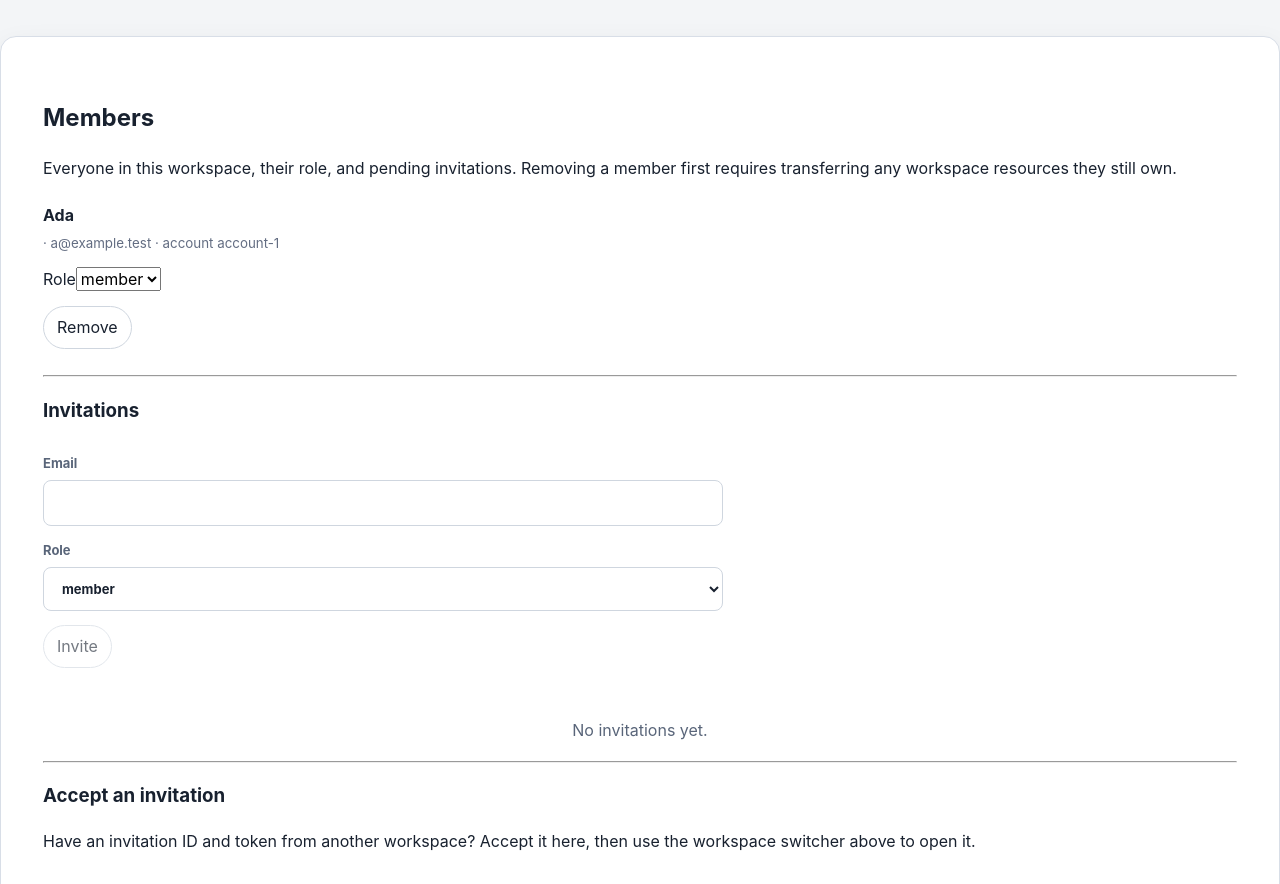
it: MembersPanel › shows the owned-resources breakdown and an ownership-transfer form when removal is blocked
The image size is (1280, 884).
Check: the text "Ada" is shown, box [43,205,74,225]
Click the button "Remove": (87, 327) [43,306,132,349]
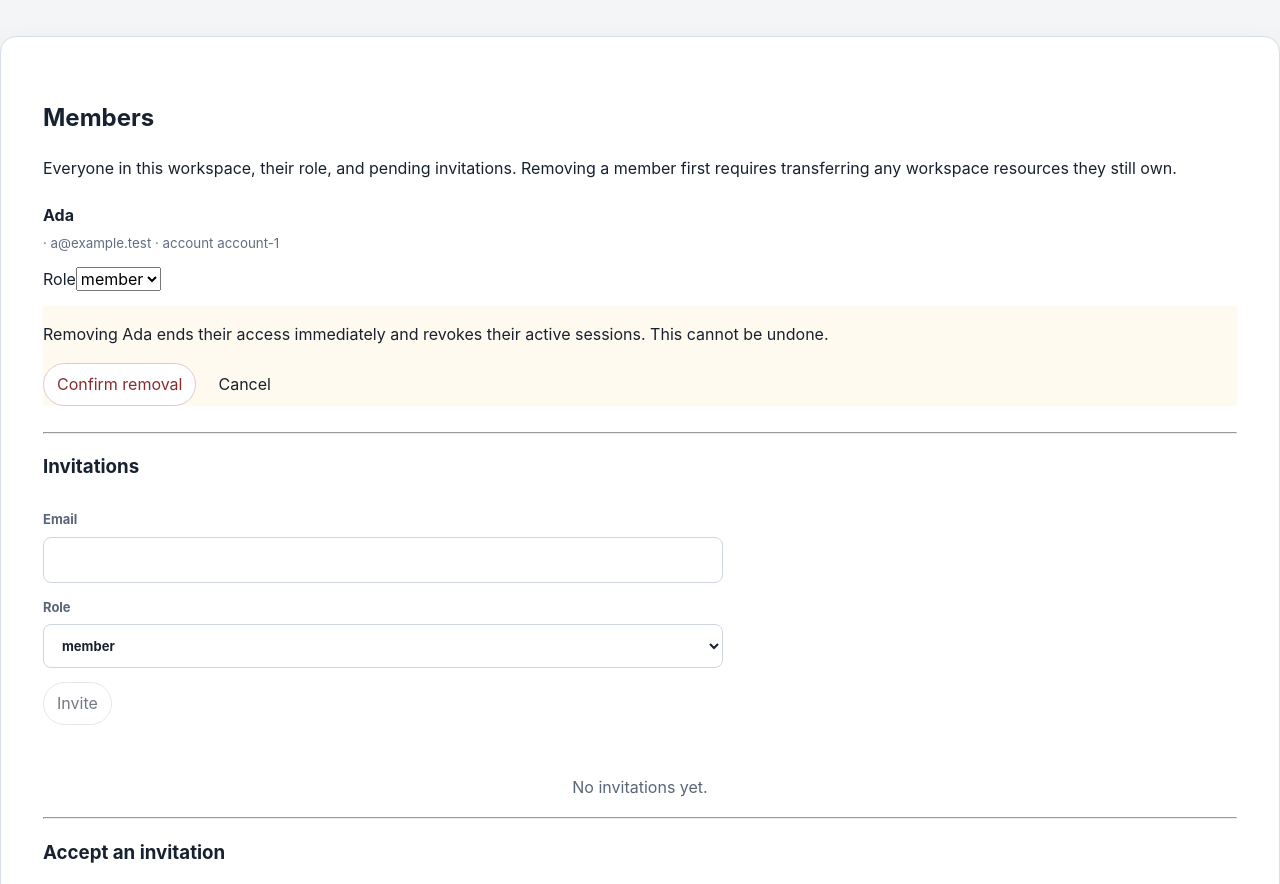
Click the button "Confirm removal": (120, 384) [43,363,196,406]
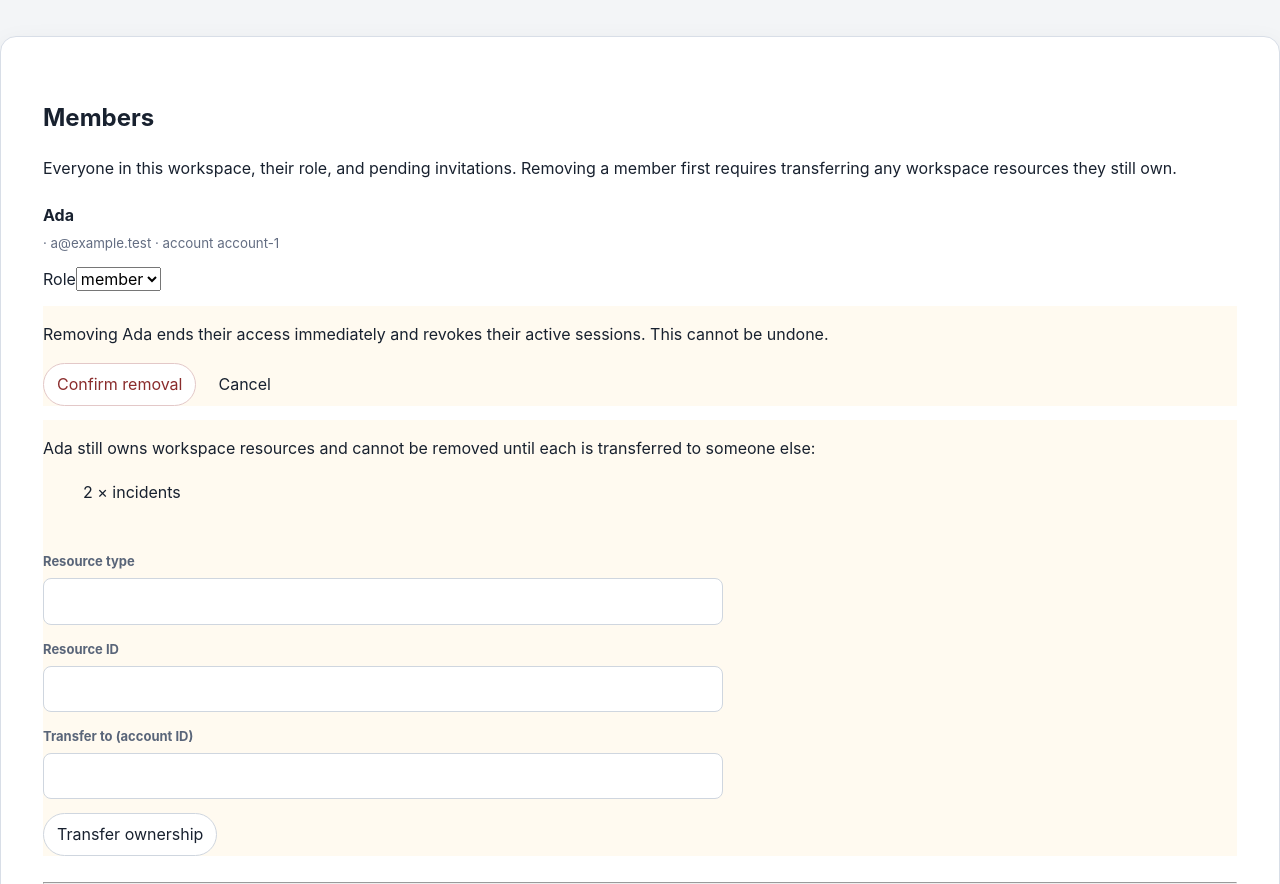
Check: the list item "2 × incidents" is shown, box [83,482,181,502]
Check: the button "Transfer ownership" is shown, box [43,813,217,856]
